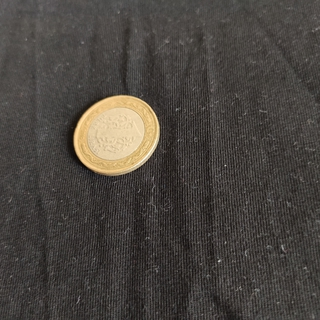1TL: (71, 93, 161, 177)
